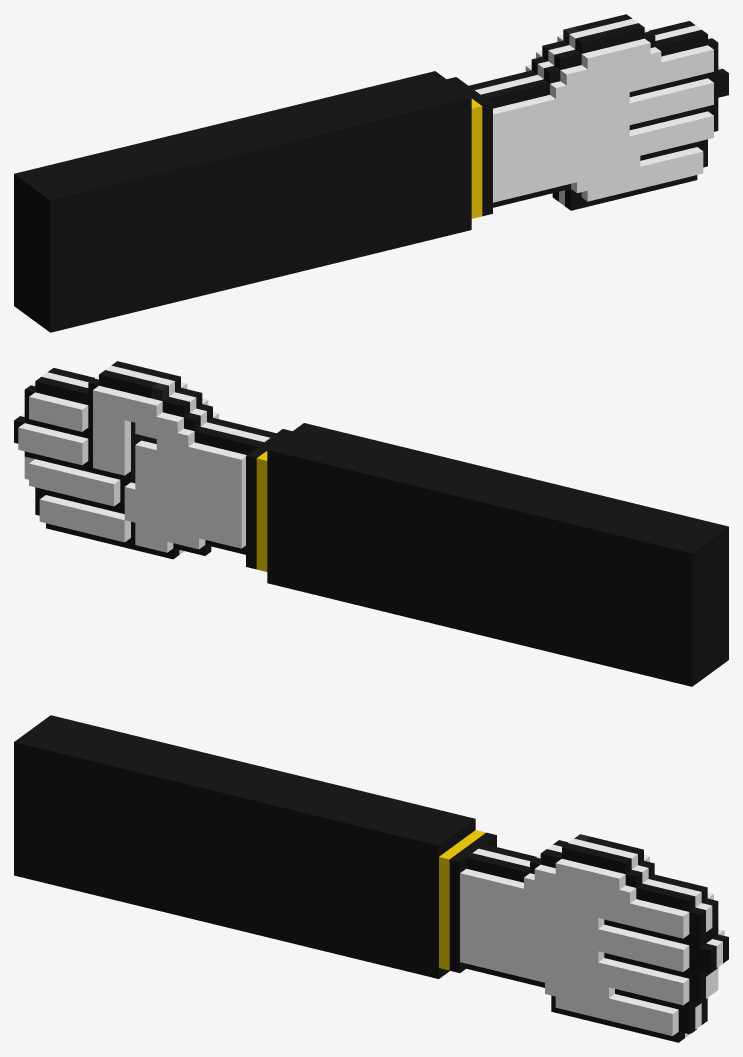
Rendered from Hand(Fist).obj.
3 renders of one model, top to bottom at view 1: azimuth 30°, elevation 25°; view 2: azimuth 150°, elevation 25°; view 3: azimuth 330°, elevation 25°, orthographic.
Bounding box in the file's own units: 6.5 × 1.5 × 0.6.
1 material, 1 textured.
